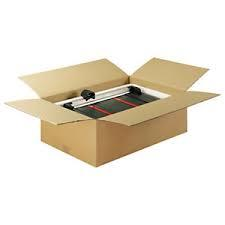Cardboard: (10, 33, 223, 177)
